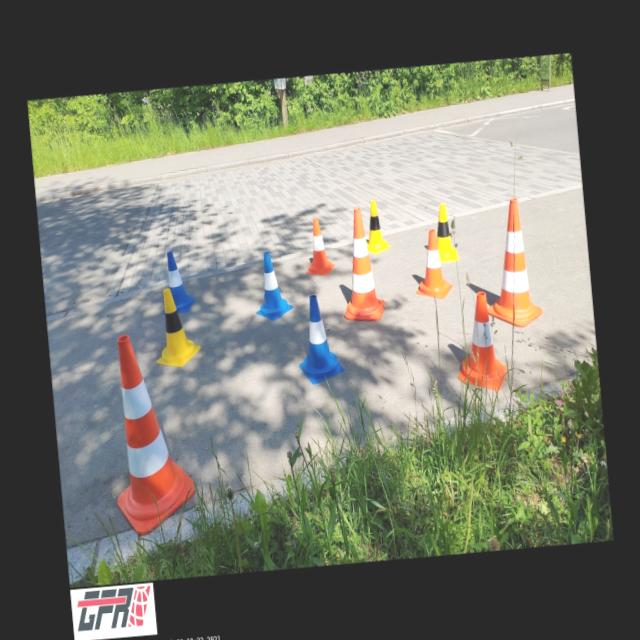blue_cone: (292, 292, 344, 385), (250, 250, 294, 322), (157, 250, 196, 314)
large_orange_cone: (102, 329, 199, 537), (478, 198, 544, 330), (335, 205, 386, 322)
orange_cone: (451, 288, 508, 394), (410, 228, 452, 300), (302, 218, 334, 276)
yellow_cone: (150, 286, 202, 368), (362, 199, 391, 255), (434, 202, 458, 262)
